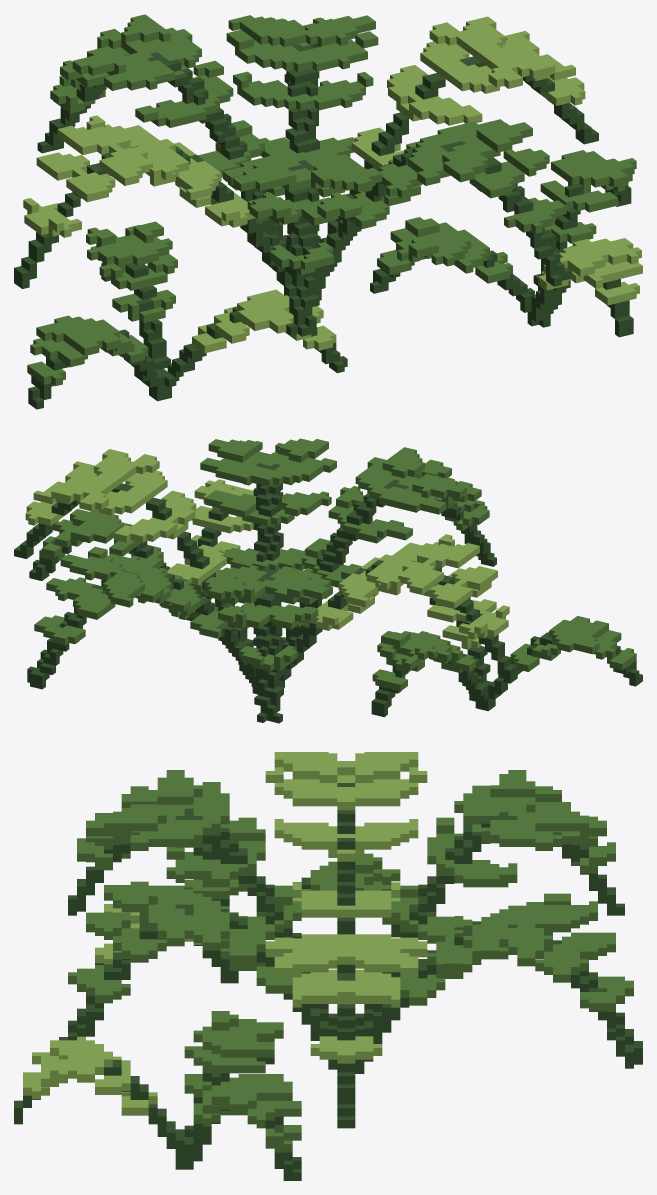
Rendered from fern_cluster_v2_near.glb.
3 views of the same model, one above another, from view 1: azimuth 30°, elevation 25°; view 2: azimuth 150°, elevation 25°; view 3: azimuth 270°, elevation 25° (orthographic). The views are drawn at different scales.
Parts seen in each view (by area): view 1: fern_cluster_v2_near; view 2: fern_cluster_v2_near; view 3: fern_cluster_v2_near.
Boxes of the visible parts, <box> form: fern_cluster_v2_near: <box>14,14,642,409</box>; fern_cluster_v2_near: <box>14,438,642,723</box>; fern_cluster_v2_near: <box>14,752,642,1180</box>.
Size of the model in its own units: 2.78 by 0.9062 by 2.19.
1 material, 1 textured.
